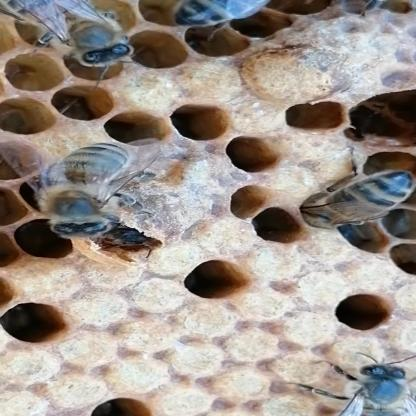bee: (240, 152, 416, 269), (0, 139, 158, 254), (0, 0, 190, 82), (275, 315, 416, 416), (122, 0, 277, 50)
